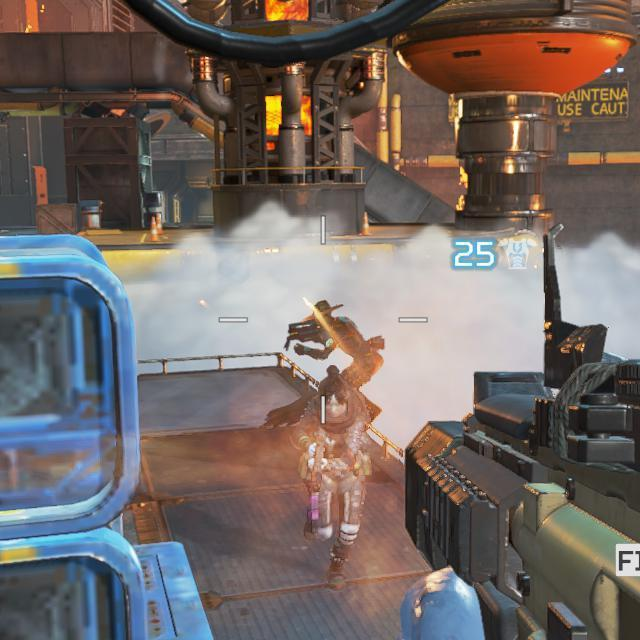avatar: (290, 364, 370, 589), (284, 297, 387, 427)
